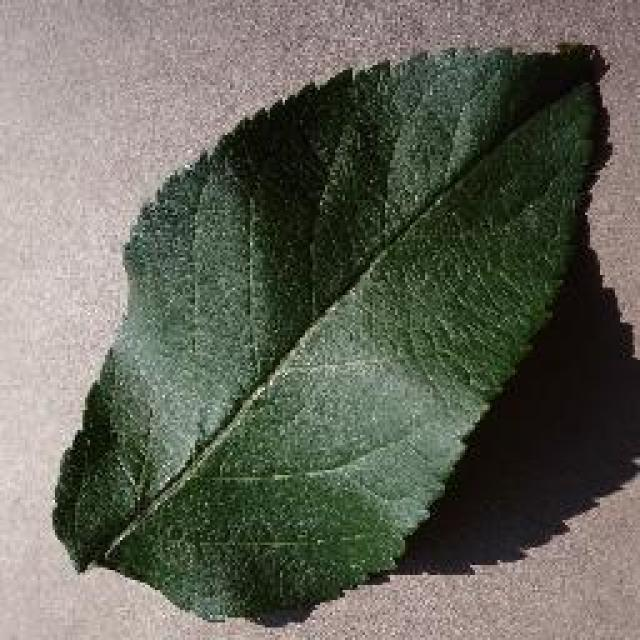apple healthy: (50, 38, 612, 622)
